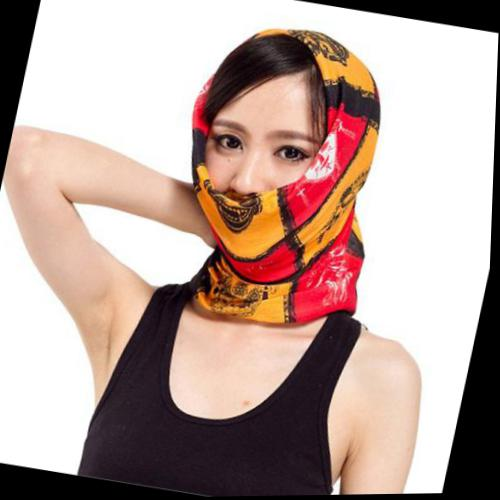WRONG: (178, 101, 349, 267)
